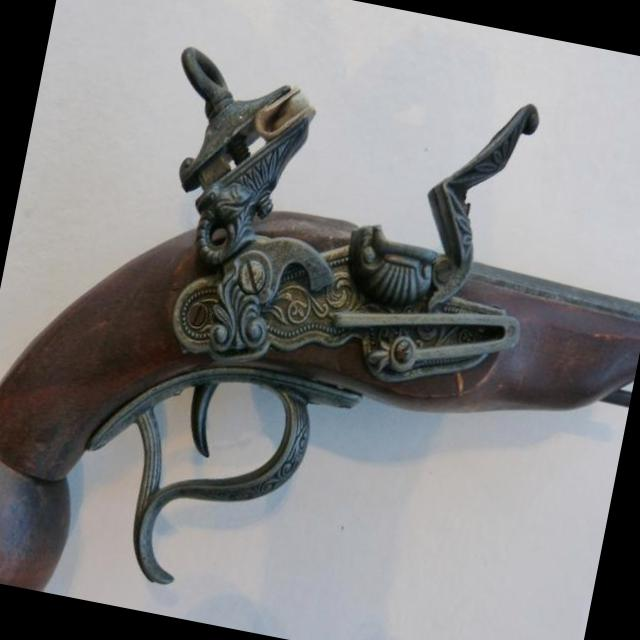Gun: (0, 48, 640, 583)
